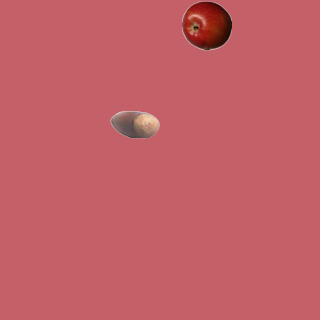Apple Braeburn: (181, 0, 231, 50)
Hazelnut: (109, 99, 159, 149)
